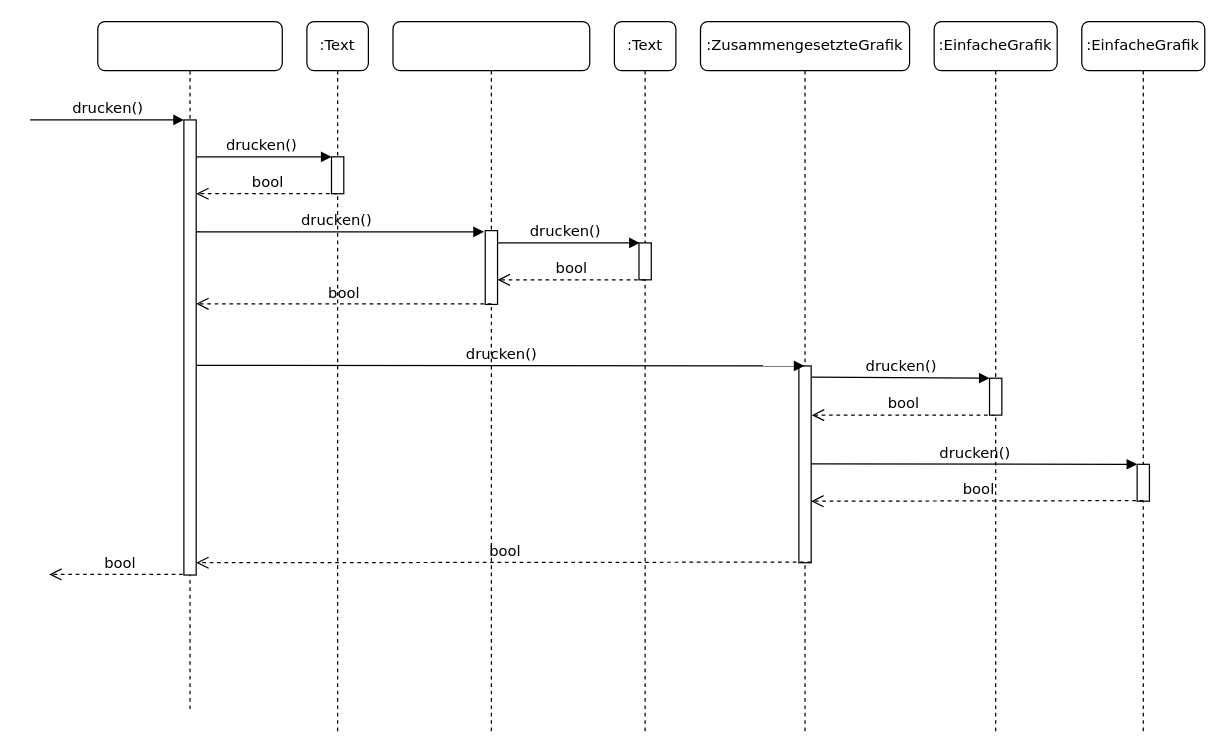
This 1226x756 diagram has some shape labels left out. Each missing label, with the box of its shape:
Dokument1:Dokument: (97, 20, 282, 710)
Dokument2:Dokument: (392, 20, 590, 735)
